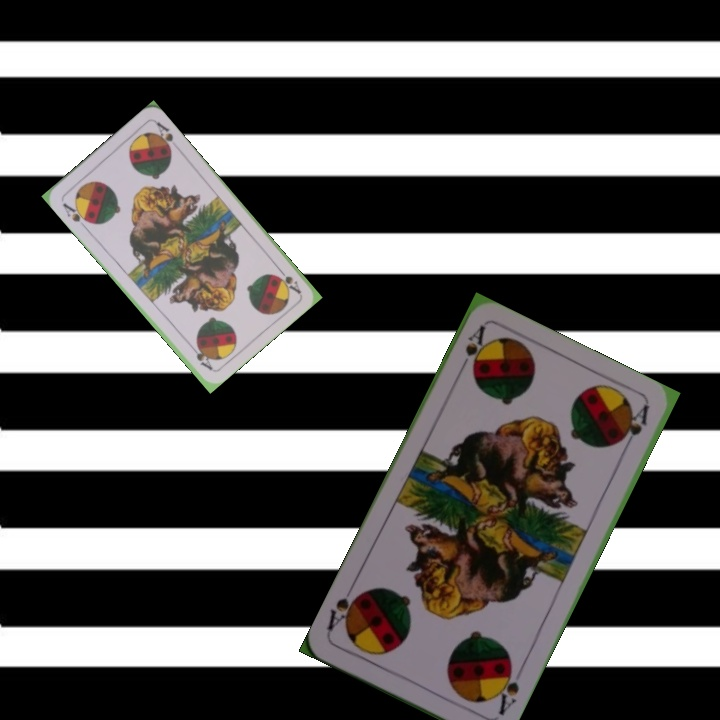SA: (454, 322, 489, 378), (490, 661, 522, 719), (59, 199, 93, 231), (272, 262, 304, 296)
